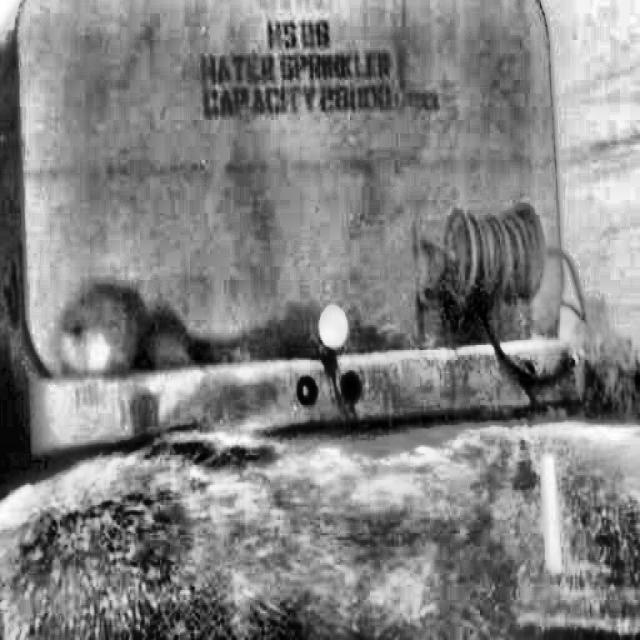dump_truck: (0, 0, 585, 477)
